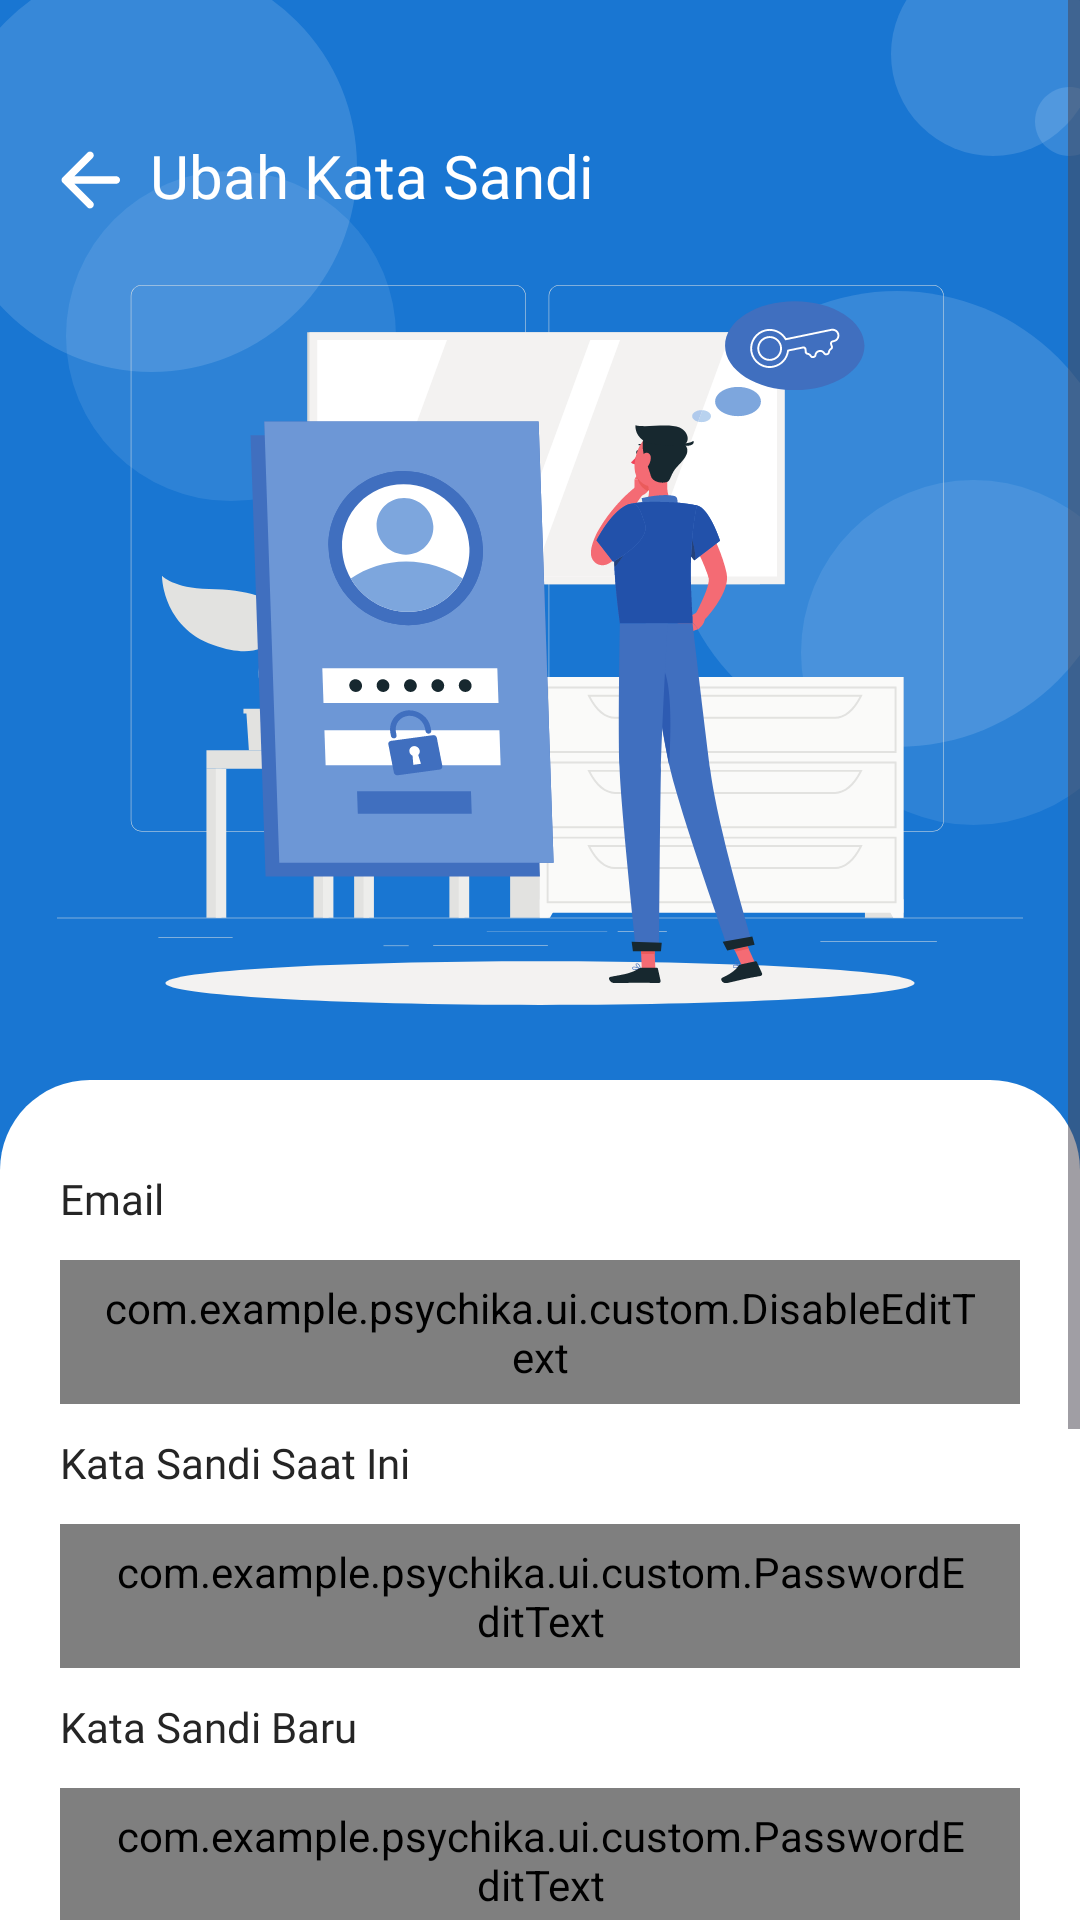

Locate icon controls on the screen. Image size 1080px×1920px, boxes as (x1, y1, x2, y2).
Tombol kembali: (61, 151, 120, 209)
